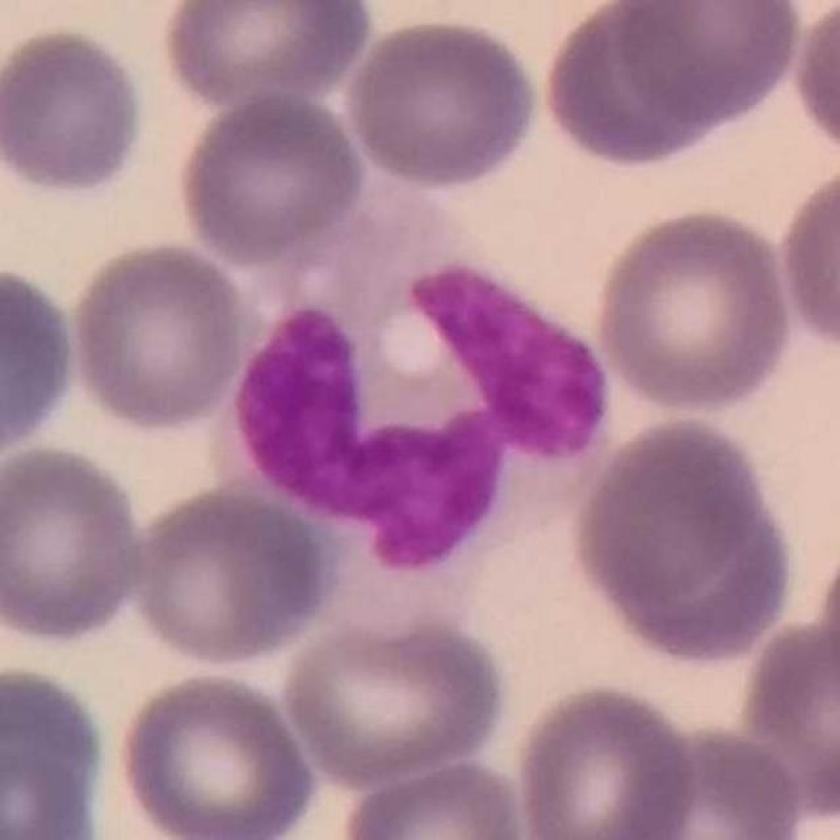monocyte: (213, 170, 617, 640)
